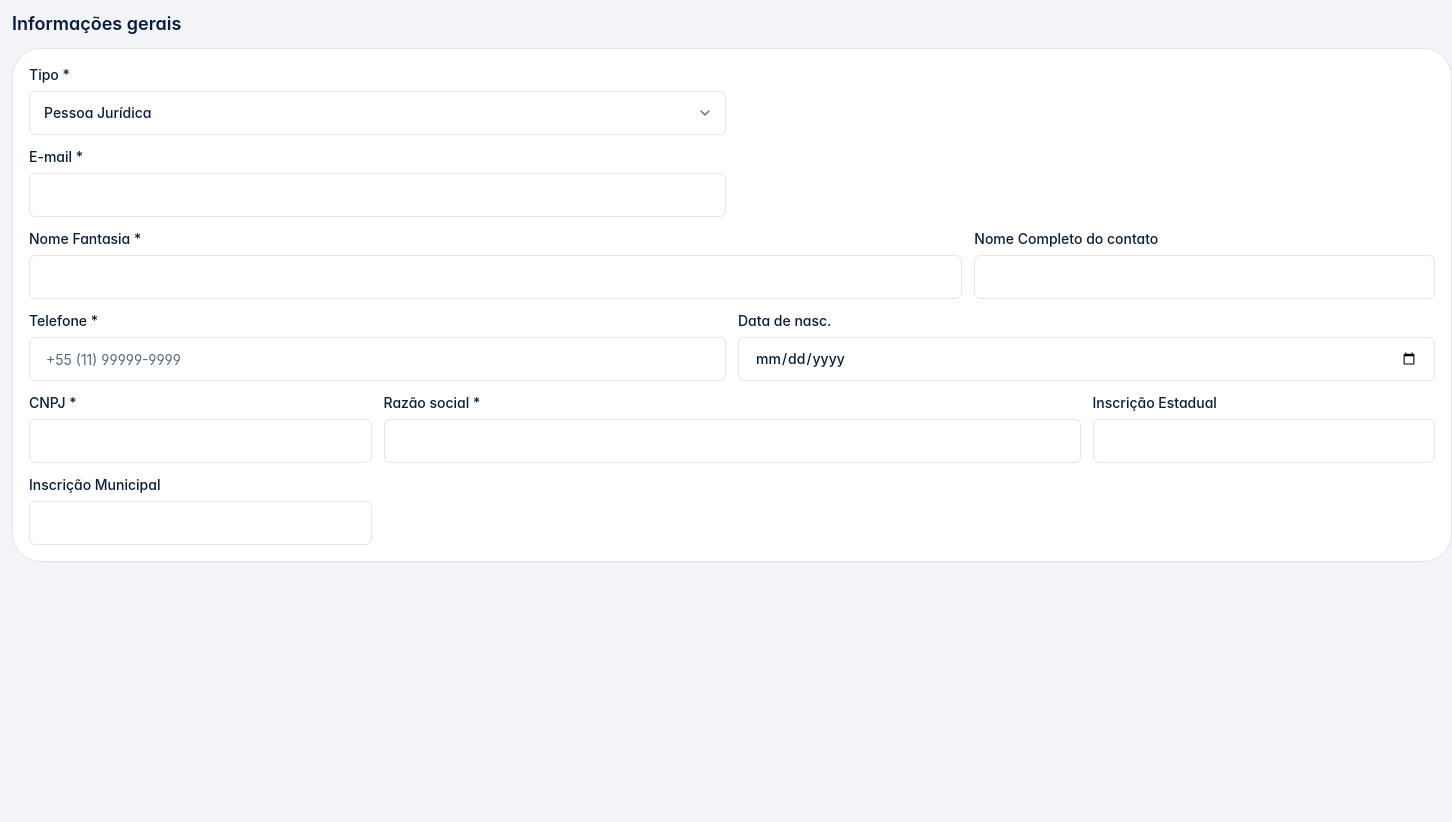
Test: aviso de identidade no preenchimento › avisa CNPJ duplicado mesmo enquanto a consulta externa de razão social e endereço continua pendente
The image size is (1452, 822).
Type "11222333000181" into the field labelled "CNPJ *". click: [200, 441]
box: [29,419,372,463]
Wait 350 ms
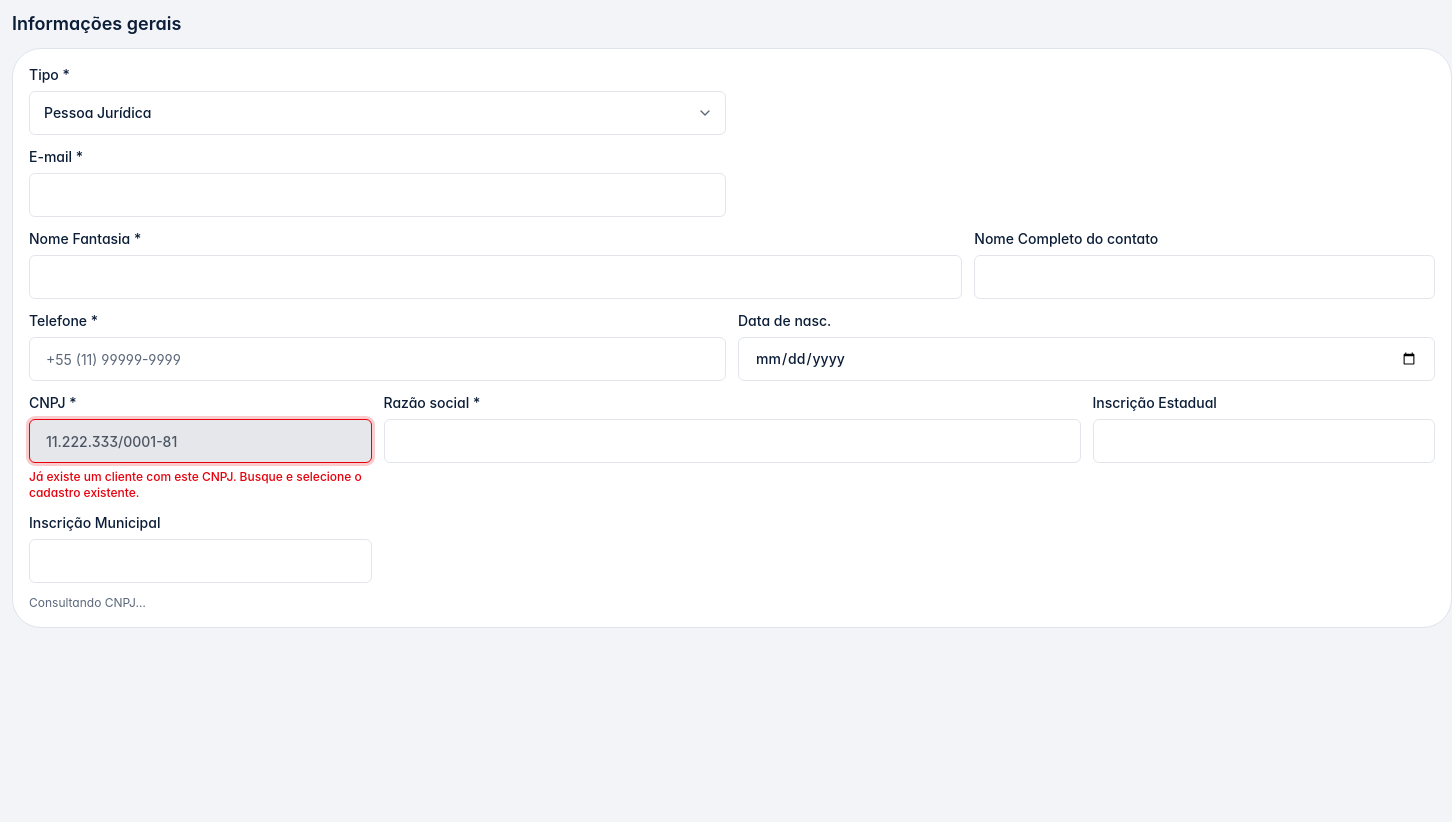
Result: the message "Já existe um cliente com este CNPJ. Busque e selecione o cadastro existente." is shown at [29,469,372,501]
Result: the field labelled "CNPJ *" holds "11.222.333/0001-81" at [29,419,372,463]
